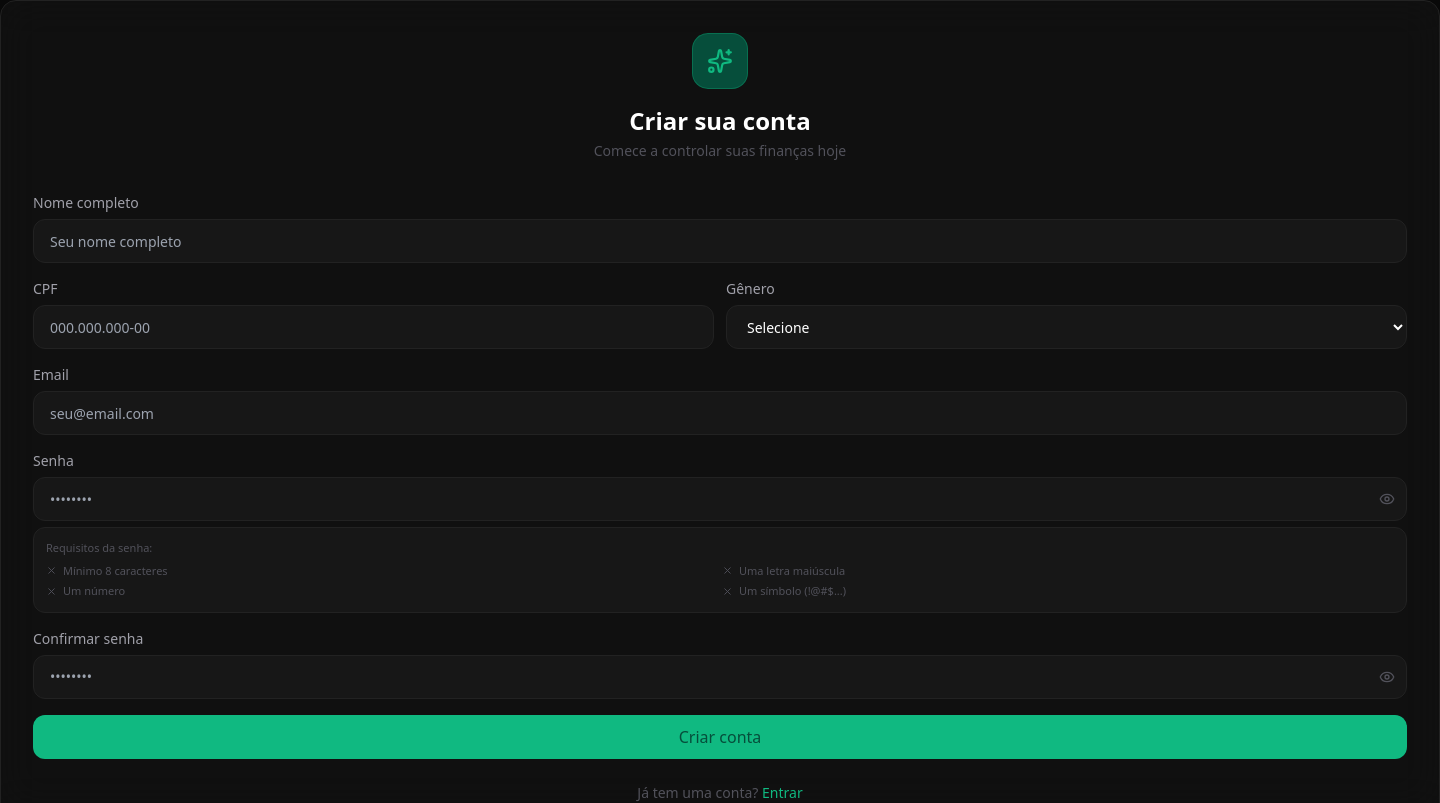
Test: RegisterPage › deve exibir erros de validação ao submeter formulário vazio
Click the button "Criar conta".
click(720, 736)  # box [33,714,1407,758]
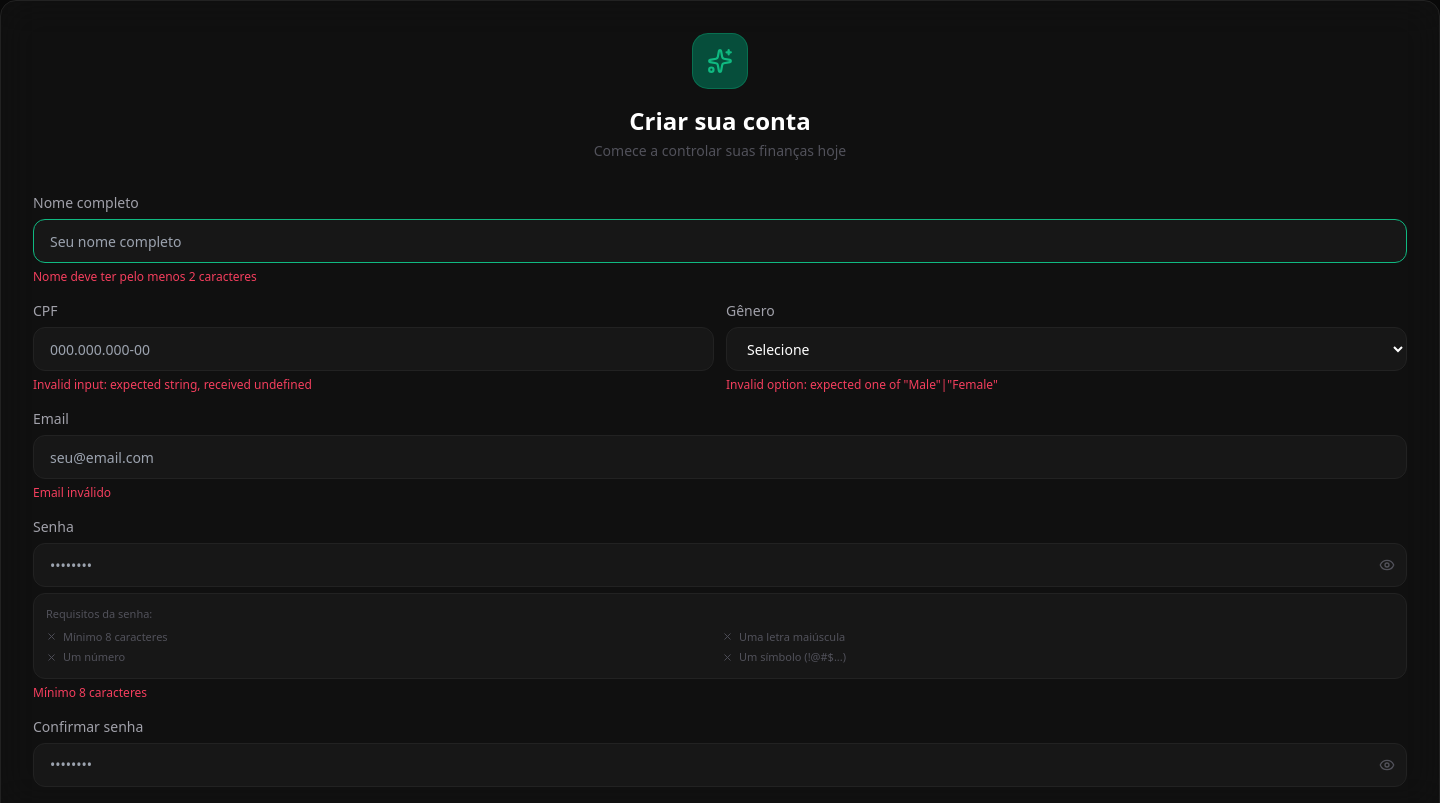
Check: the text "Nome deve ter pelo menos 2 caracteres" is shown, box [33,268,257,285]
